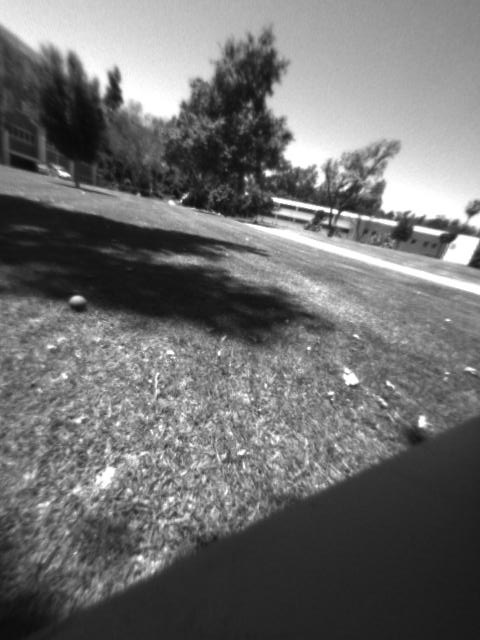dogtoy: (61, 285, 95, 319)
